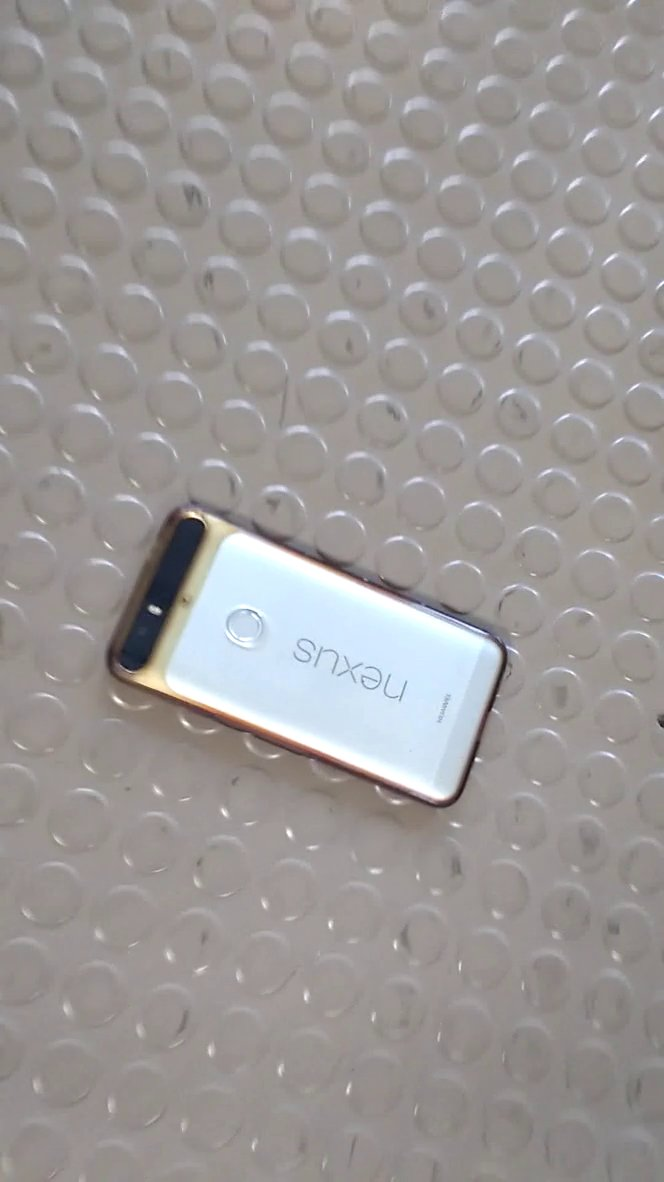phone: (87, 481, 521, 831)
